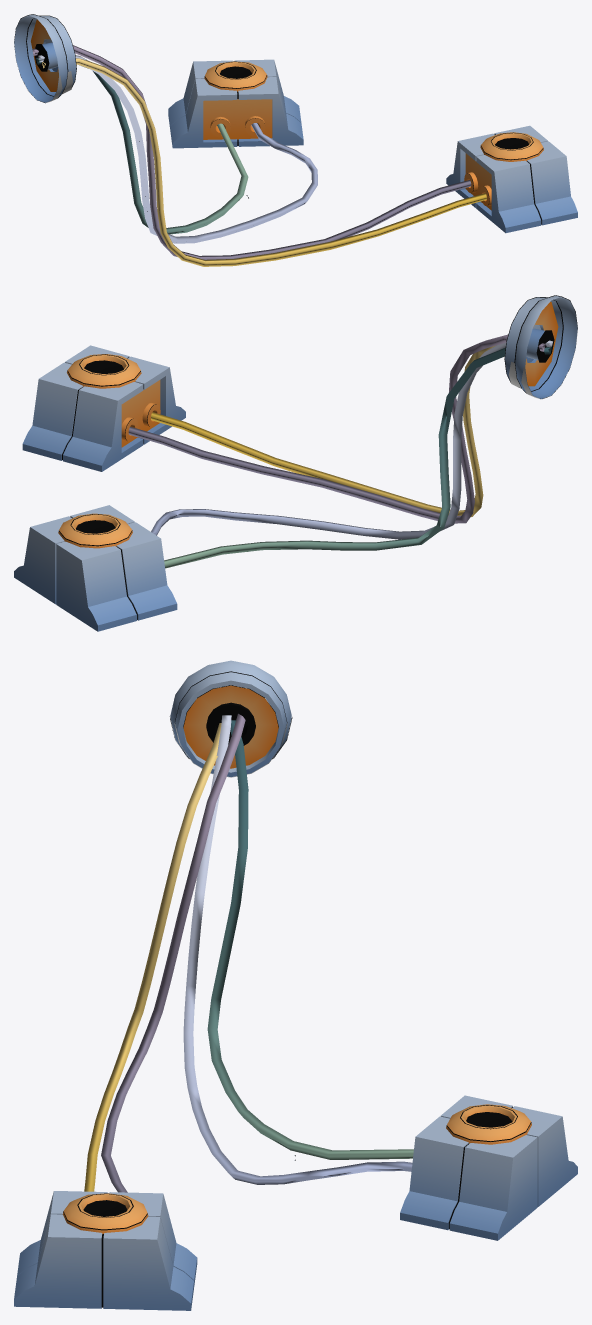
The model's file is Rooms_Paradise_SciFi_Plug_Art.fbx.
The picture shows the model from 3 angles, top to bottom: view 1: azimuth 30°, elevation 25°; view 2: azimuth 150°, elevation 25°; view 3: azimuth 270°, elevation 25°; orthographic projection. The views are drawn at different scales.
Parts seen in each view (by area): view 1: Rooms_Paradise_SciFi_Battery02, Rooms_Paradise_SciFi_Battery01, Rooms_Paradise_SciFi_Plug_Cable02, Rooms_Paradise_SciFi_Plug_Art, Rooms_Paradise_SciFi_Plug_Cable03, Rooms_Paradise_SciFi_Plug_Cable04, Rooms_Paradise_SciFi_Plug_Cable01; view 2: Rooms_Paradise_SciFi_Battery01, Rooms_Paradise_SciFi_Battery02, Rooms_Paradise_SciFi_Plug_Art, Rooms_Paradise_SciFi_Plug_Cable04, Rooms_Paradise_SciFi_Plug_Cable01, Rooms_Paradise_SciFi_Plug_Cable03, Rooms_Paradise_SciFi_Plug_Cable02; view 3: Rooms_Paradise_SciFi_Battery01, Rooms_Paradise_SciFi_Battery02, Rooms_Paradise_SciFi_Plug_Art, Rooms_Paradise_SciFi_Plug_Cable03, Rooms_Paradise_SciFi_Plug_Cable01, Rooms_Paradise_SciFi_Plug_Cable04, Rooms_Paradise_SciFi_Plug_Cable02, Rooms_Paradise_SciFi_Plug_Outliner.
Boxes of the visible parts, x1,y1,x2,y2 form: Rooms_Paradise_SciFi_Battery02: (446, 125, 577, 233); Rooms_Paradise_SciFi_Battery01: (168, 59, 303, 148); Rooms_Paradise_SciFi_Plug_Cable02: (42, 58, 486, 266); Rooms_Paradise_SciFi_Plug_Art: (14, 14, 76, 102); Rooms_Paradise_SciFi_Plug_Cable03: (38, 55, 317, 243); Rooms_Paradise_SciFi_Plug_Cable04: (32, 45, 471, 259); Rooms_Paradise_SciFi_Plug_Cable01: (36, 57, 248, 234); Rooms_Paradise_SciFi_Battery01: (14, 505, 177, 631); Rooms_Paradise_SciFi_Battery02: (22, 345, 185, 471); Rooms_Paradise_SciFi_Plug_Art: (505, 295, 577, 398); Rooms_Paradise_SciFi_Plug_Cable04: (128, 334, 545, 523); Rooms_Paradise_SciFi_Plug_Cable01: (164, 346, 551, 568); Rooms_Paradise_SciFi_Plug_Cable03: (151, 340, 552, 539); Rooms_Paradise_SciFi_Plug_Cable02: (151, 345, 495, 516); Rooms_Paradise_SciFi_Battery01: (400, 1095, 577, 1240); Rooms_Paradise_SciFi_Battery02: (14, 1191, 197, 1310); Rooms_Paradise_SciFi_Plug_Art: (170, 660, 291, 776); Rooms_Paradise_SciFi_Plug_Cable03: (183, 715, 412, 1184); Rooms_Paradise_SciFi_Plug_Cable01: (207, 720, 413, 1159); Rooms_Paradise_SciFi_Plug_Cable04: (101, 713, 245, 1192); Rooms_Paradise_SciFi_Plug_Cable02: (84, 723, 221, 1191); Rooms_Paradise_SciFi_Plug_Outliner: (170, 685, 292, 759).
Bounding box in the file's own units: 593 × 310 × 458.
